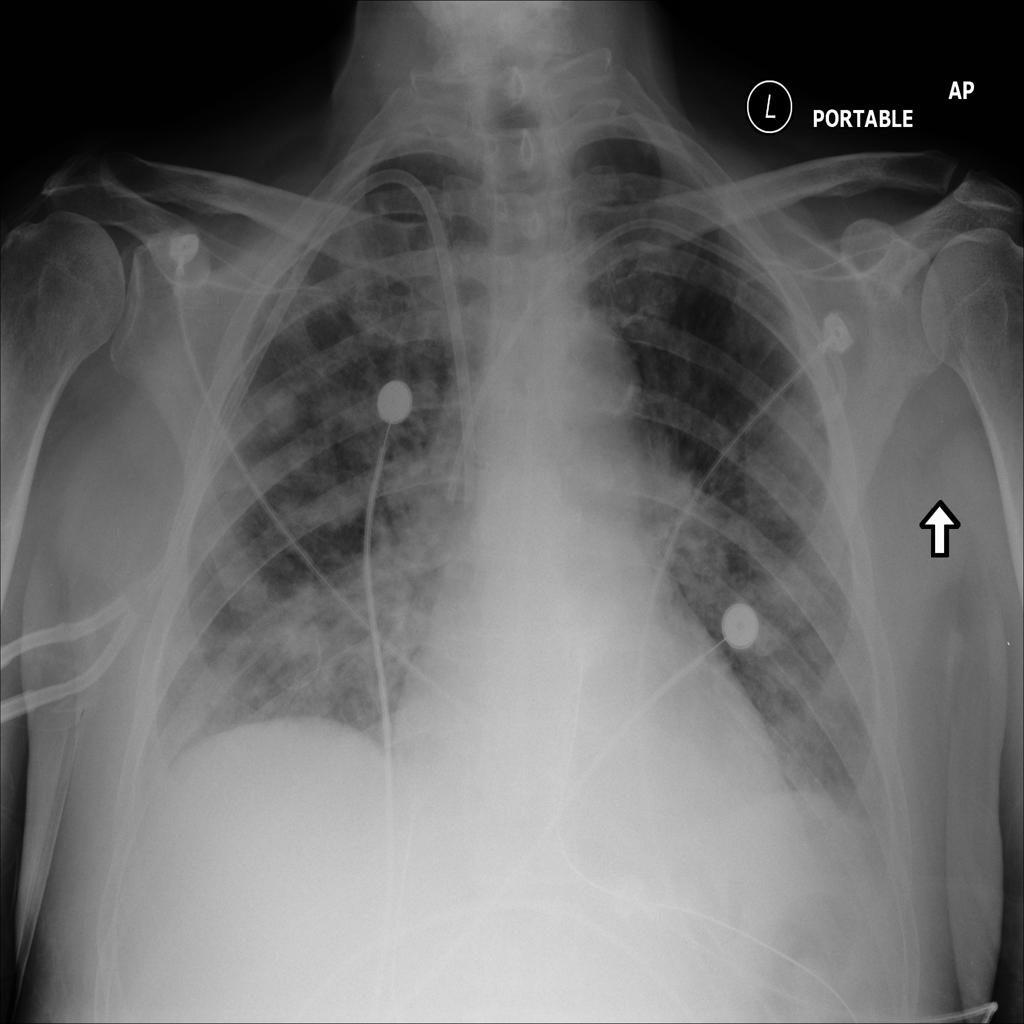nodule: (245, 377, 313, 450)
